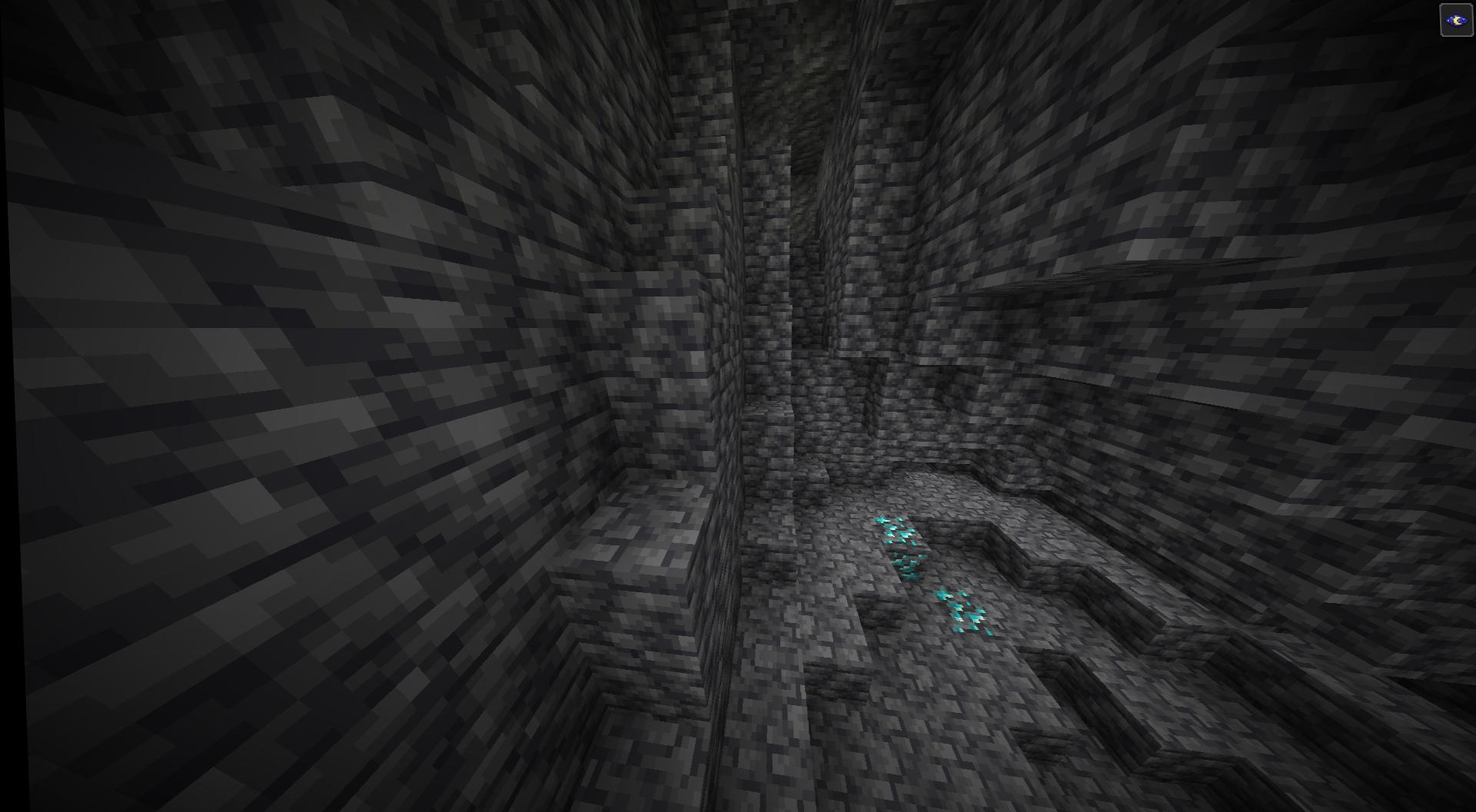diamond ore: (870, 509, 929, 578), (927, 586, 991, 635)
